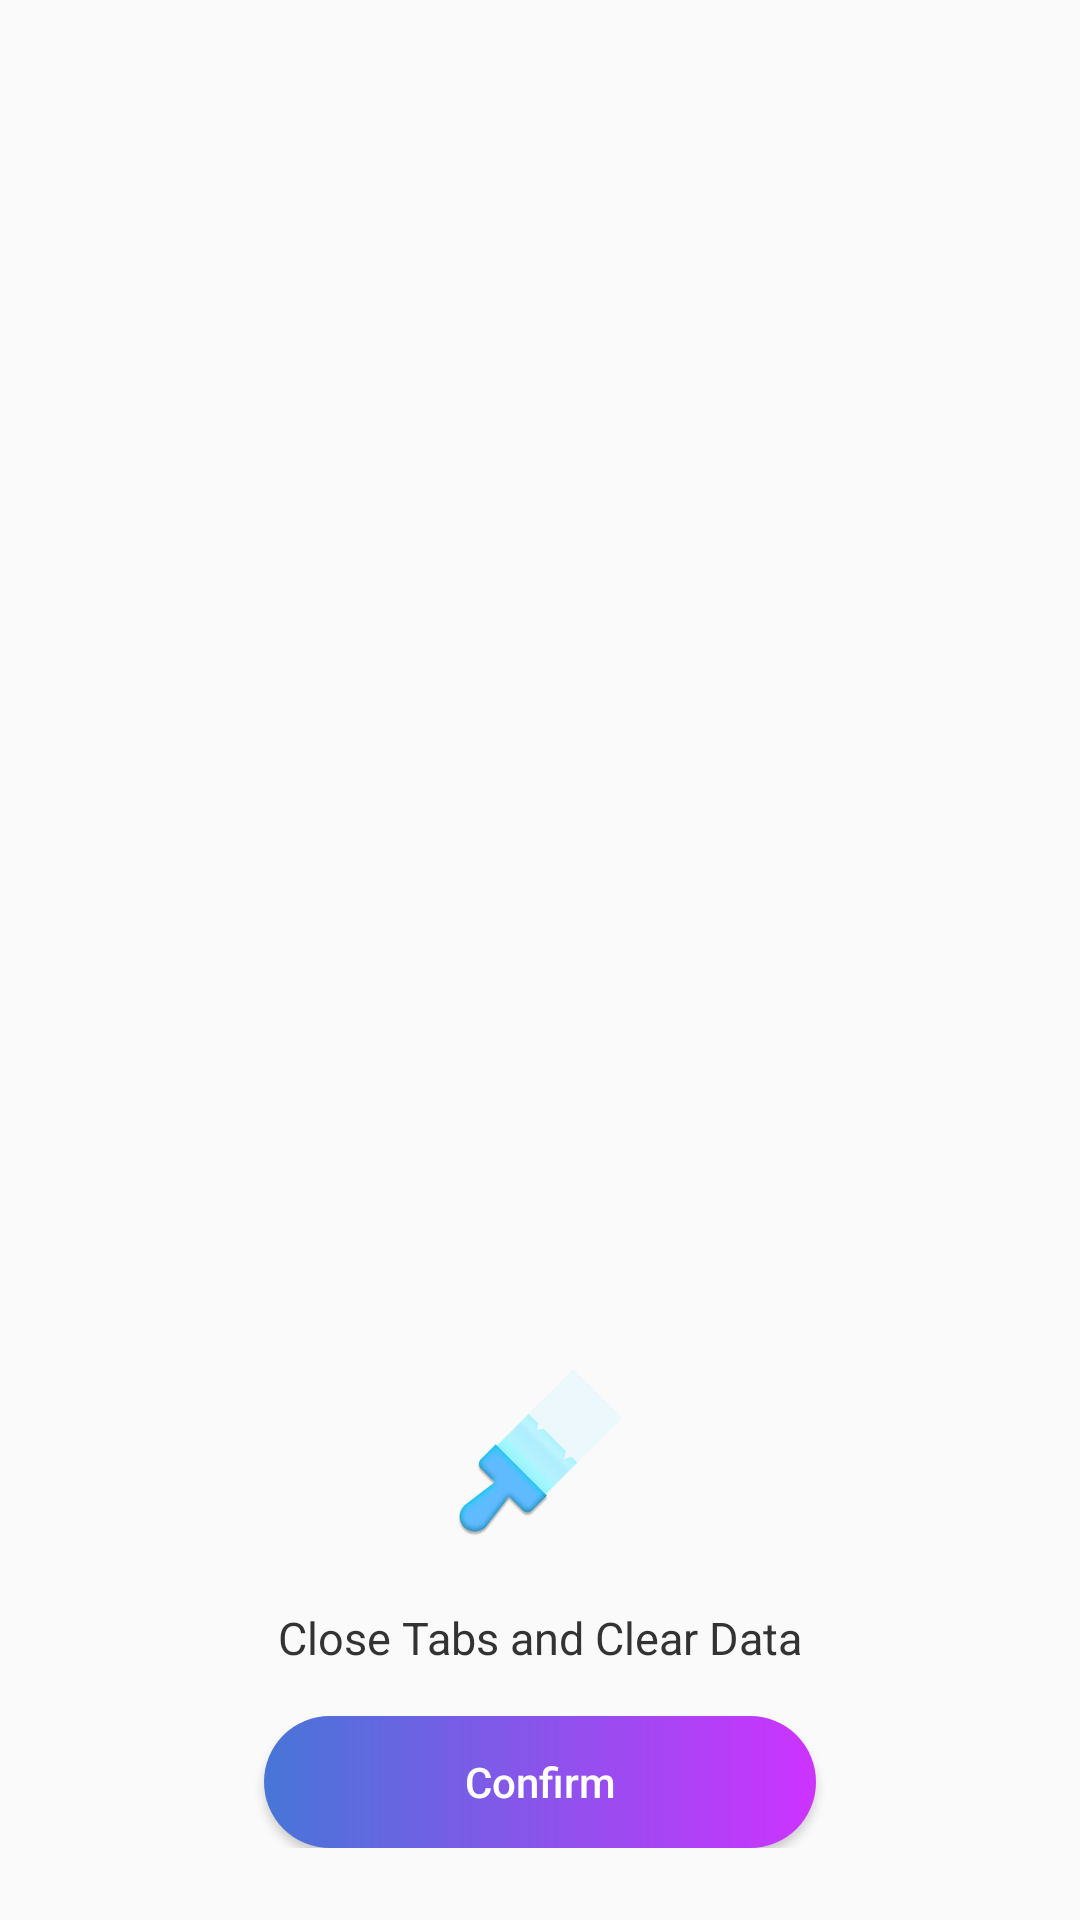

Named icons in this screenshot (1080px×1920px) and their bounding boxes, (x1, y1, x2, y2):
clean: (459, 1414, 577, 1535)
